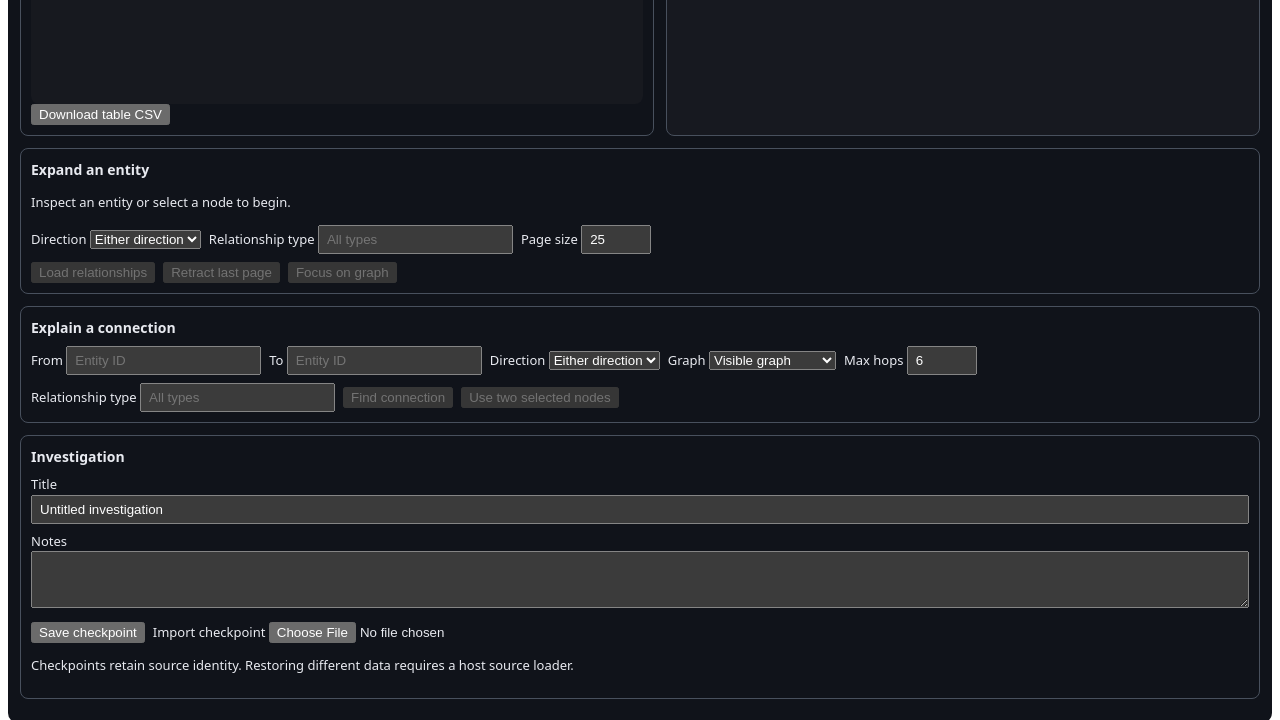
it: GraphExplorer investigation journeys › reports hop limits separately from disconnected paths and saves no invented explanation
(page scrolled)
Step 1. Type "a" into the field named "Path source" → x=164, y=361, box [66, 346, 261, 375]
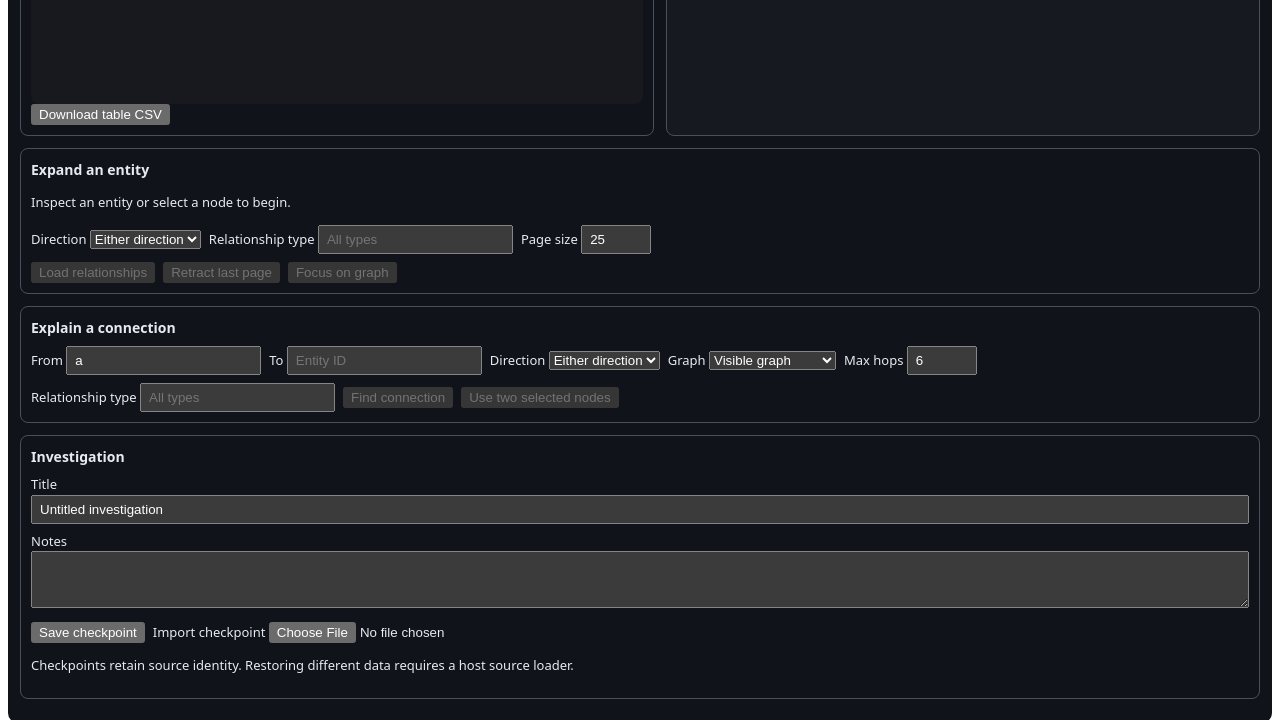
Step 2. Type "c" into the field named "Path target" → x=384, y=361, box [287, 346, 482, 375]
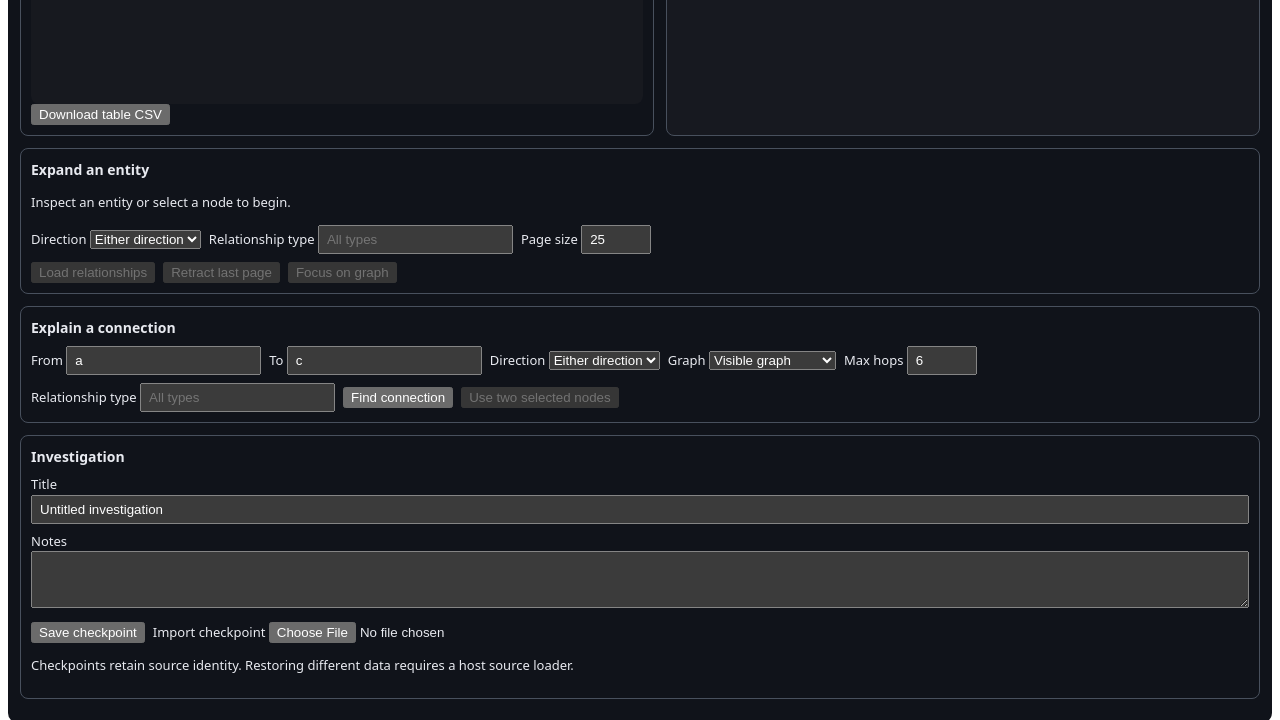
Step 3. Replace the text in the number field named "Path hop limit" with "1" → x=942, y=361, box [907, 346, 977, 375]
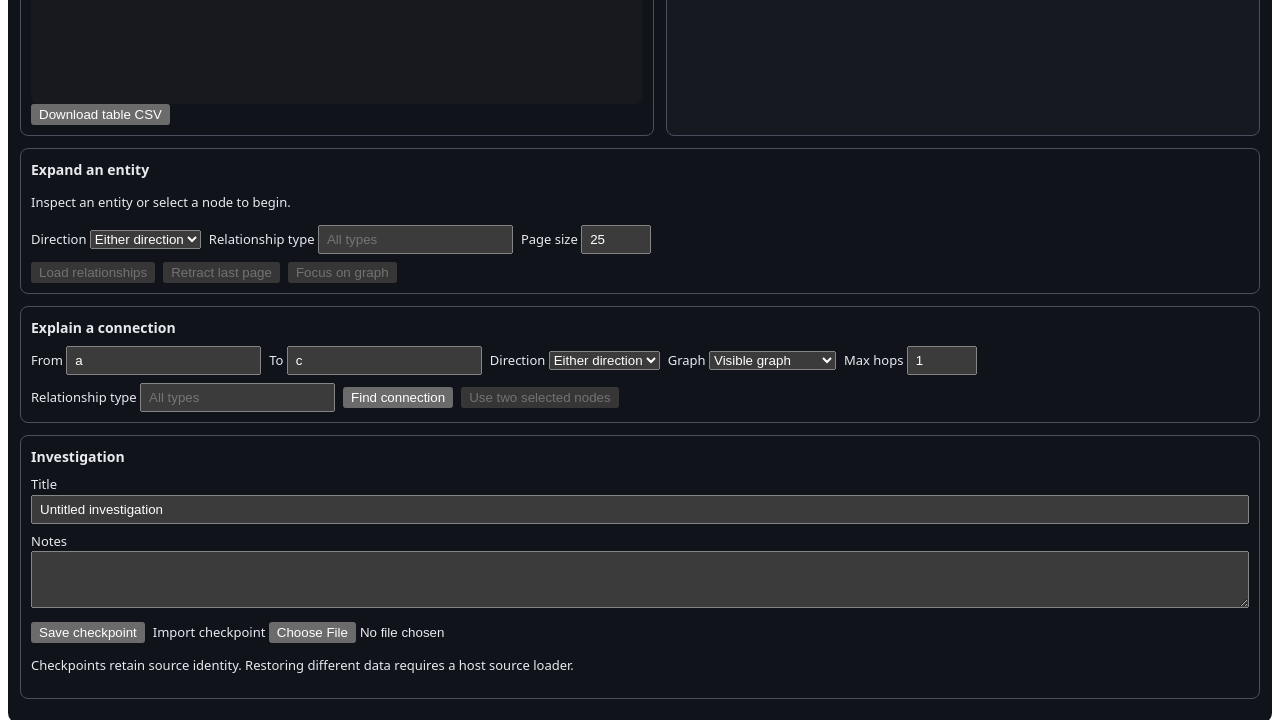
Step 4. Click the button "Find connection" → x=398, y=398, box [343, 387, 453, 408]
(page scrolled)
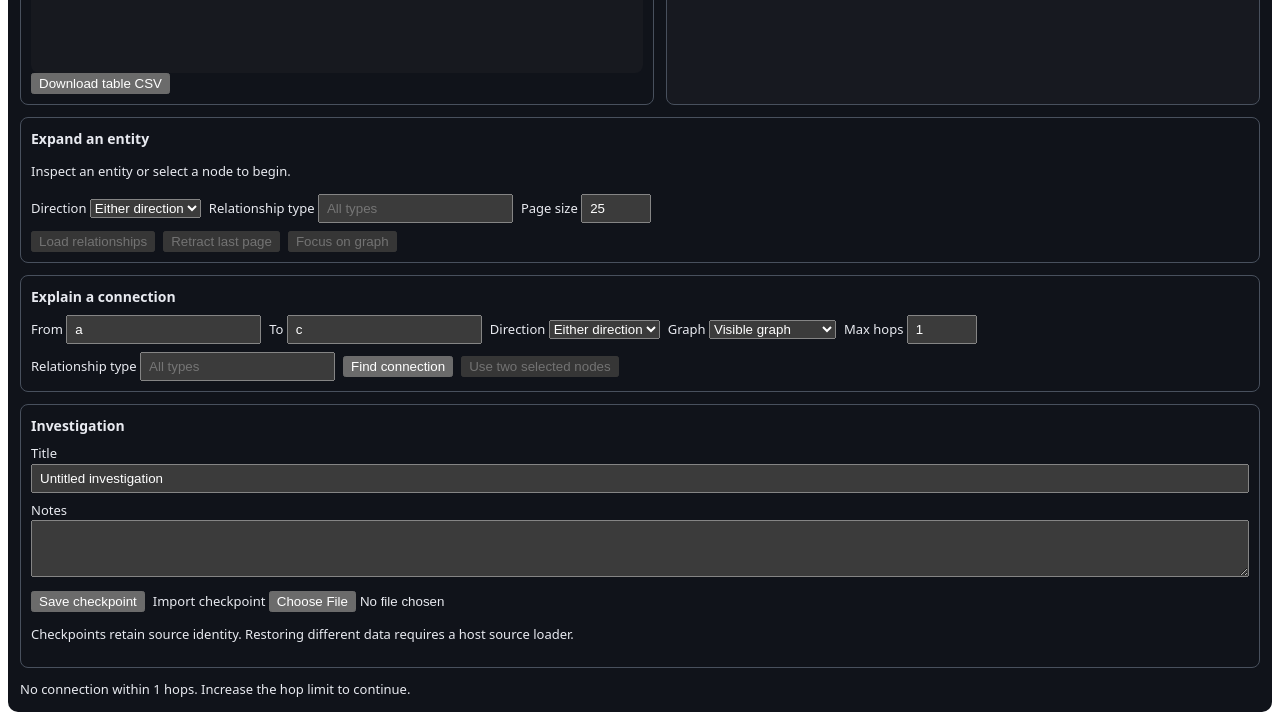
Result: the text "No connection within 1 hops. Increase the hop limit to continue." is shown at [20, 680, 410, 698]
